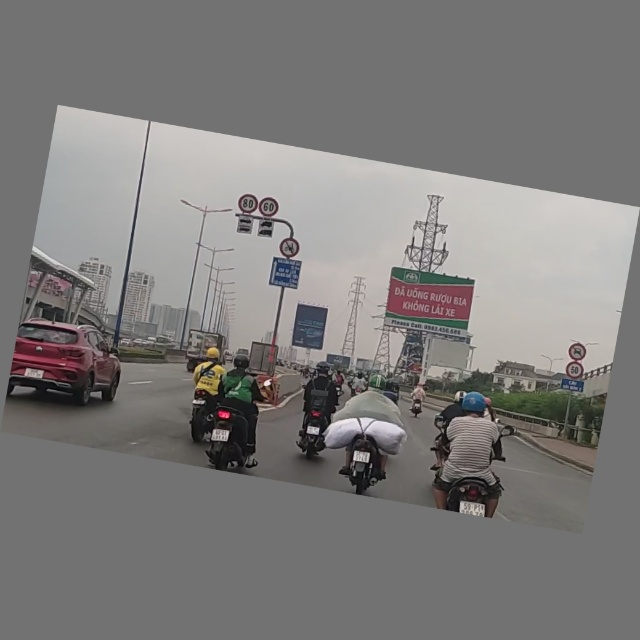P.103a: (567, 341, 588, 363)
P.104: (278, 236, 302, 261)
P.127*50: (565, 362, 583, 381)
P.127*60: (258, 195, 281, 219)
P.127*80: (235, 192, 260, 216)
